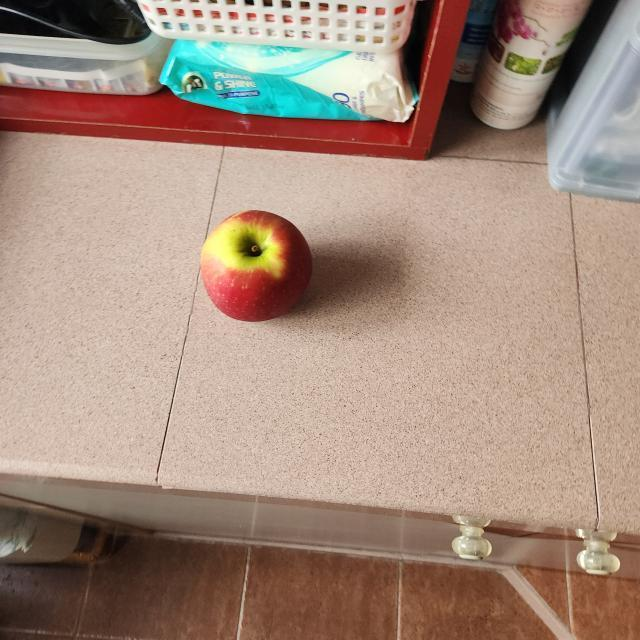apple: (195, 198, 321, 329)
